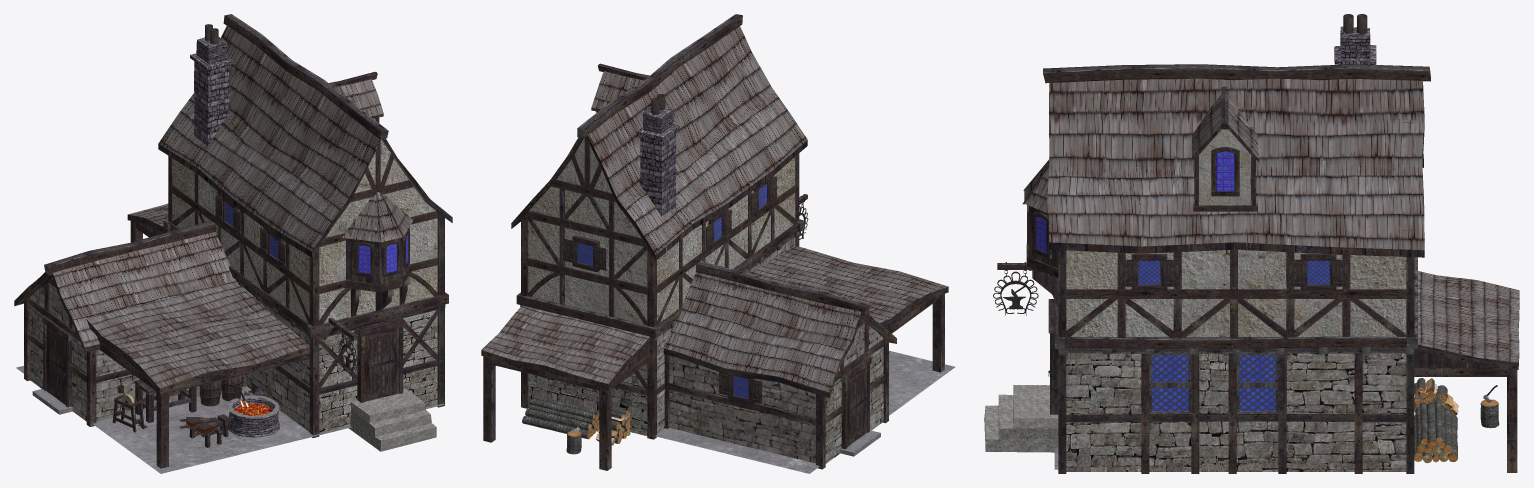
The model's file is workshop.glb.
3 renders of one model, left to right at view 1: azimuth 30°, elevation 25°; view 2: azimuth 150°, elevation 25°; view 3: azimuth 270°, elevation 25°, orthographic. The views are drawn at different scales.
Parts seen in each view (by area): view 1: Roof, WoodenBeams, Level1, Level2, RoofFrame, WorkshopFloor, Steps, Chimney, DoorFront, WoodenBeamsExtraFront, WindowFrames, Forge (+9 smaller); view 2: Roof, WoodenBeams, Level1, Level2, RoofFrame, WorkshopFloor, Chimney, WoodenBeamsExtraBack, WindowFrames, PileOfLogs, WoodenBeamsExtraFront, DoorSide (+2 smaller); view 3: Roof, WoodenBeams, Level1, Level2, RoofFrame, WindowFrames, Steps, WoodenBeamsExtraBack, PileOfLogs, Level3, Window2Level1, Window1Level1 (+7 smaller).
Part boxes in pixels (x1=…): Roof: x1=53, y1=25, x2=447, y2=388; WoodenBeams: x1=24, y1=117, x2=448, y2=437; Level1: x1=29, y1=283, x2=437, y2=432; Level2: x1=172, y1=140, x2=437, y2=323; RoofFrame: x1=14, y1=14, x2=452, y2=393; WorkshopFloor: x1=16, y1=366, x2=444, y2=473; Steps: x1=349, y1=388, x2=436, y2=451; Chimney: x1=190, y1=37, x2=233, y2=145; DoorFront: x1=364, y1=328, x2=399, y2=401; WoodenBeamsExtraFront: x1=97, y1=336, x2=309, y2=468; WindowFrames: x1=215, y1=195, x2=409, y2=277; Forge: x1=227, y1=395, x2=279, y2=437; Roof: x1=481, y1=26, x2=948, y2=392; WoodenBeams: x1=516, y1=111, x2=888, y2=469; Level1: x1=528, y1=237, x2=883, y2=463; Level2: x1=528, y1=138, x2=795, y2=323; RoofFrame: x1=481, y1=14, x2=948, y2=398; WorkshopFloor: x1=655, y1=350, x2=955, y2=473; Chimney: x1=636, y1=106, x2=680, y2=216; WoodenBeamsExtraBack: x1=483, y1=344, x2=648, y2=470; WindowFrames: x1=563, y1=176, x2=777, y2=405; PileOfLogs: x1=522, y1=396, x2=599, y2=439; WoodenBeamsExtraFront: x1=884, y1=286, x2=944, y2=372; DoorSide: x1=847, y1=367, x2=866, y2=446; Roof: x1=1024, y1=78, x2=1519, y2=362; WoodenBeams: x1=1022, y1=113, x2=1417, y2=473; Level1: x1=1066, y1=353, x2=1406, y2=471; Level2: x1=1066, y1=249, x2=1406, y2=336; RoofFrame: x1=1043, y1=64, x2=1519, y2=369; WindowFrames: x1=1027, y1=147, x2=1348, y2=413; Steps: x1=984, y1=385, x2=1058, y2=452; WoodenBeamsExtraBack: x1=1414, y1=351, x2=1517, y2=472; PileOfLogs: x1=1414, y1=400, x2=1457, y2=463; Level3: x1=1199, y1=129, x2=1251, y2=205; Window2Level1: x1=1239, y1=355, x2=1275, y2=411; Window1Level1: x1=1152, y1=355, x2=1188, y2=411.
Size of the model in its own units: 7.27 by 7.26 by 8.98.
Materials: 24 (24 with a texture image).
